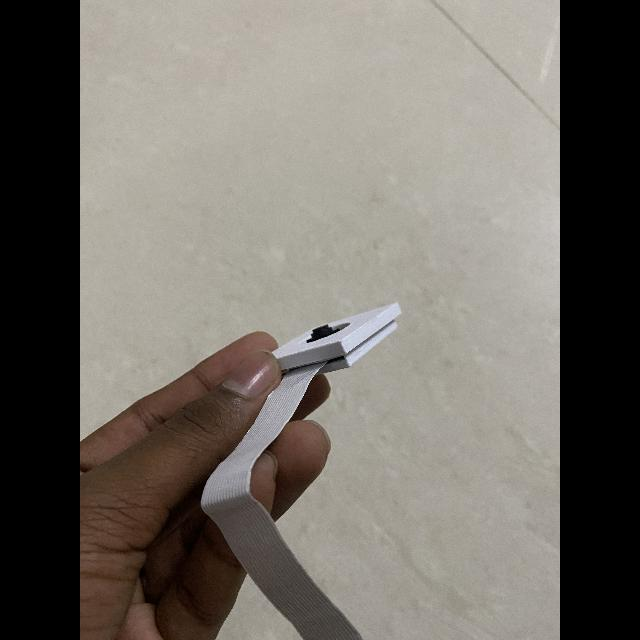RASPBERY PI CAM ENCLOSURE: (274, 303, 400, 373)
